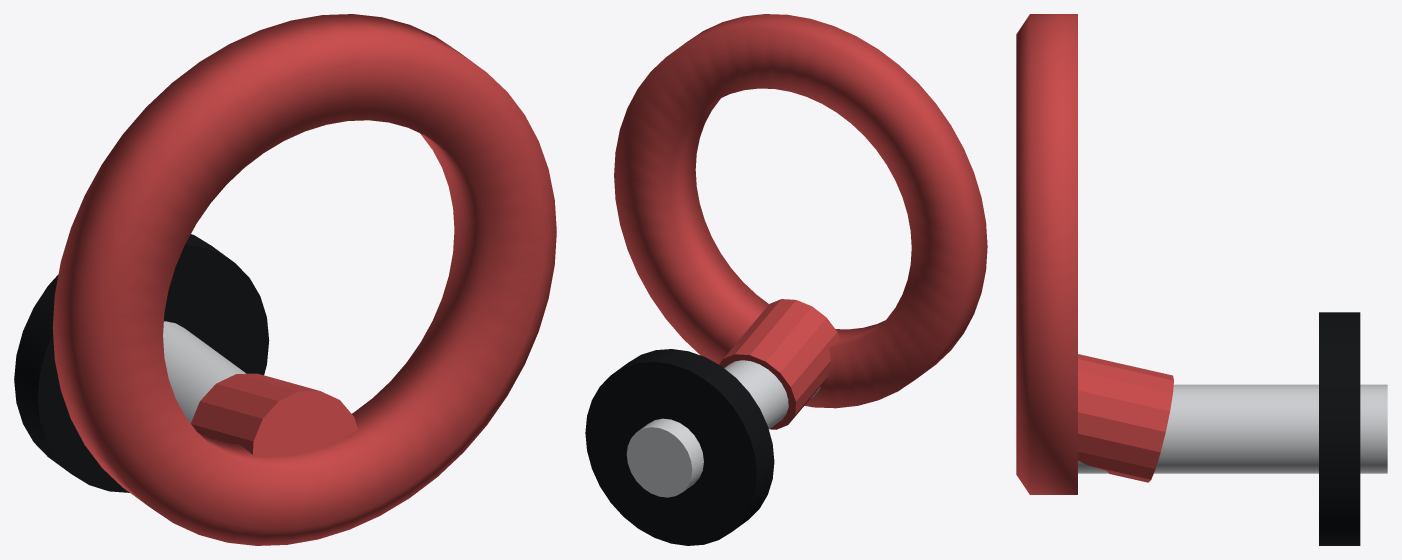
The model's file is FA42_tow_hook.glb.
3 renders of one model, left to right at view 1: azimuth 30°, elevation 25°; view 2: azimuth 150°, elevation 25°; view 3: azimuth 270°, elevation 25°, orthographic. The views are drawn at different scales.
Parts seen in each view (by area): view 1: MOD_NA_FA42_eye, MOD_NA_FA42_socket, MOD_NA_FA42_neck, MOD_NA_FA42_shaft; view 2: MOD_NA_FA42_eye, MOD_NA_FA42_socket, MOD_NA_FA42_neck, MOD_NA_FA42_shaft; view 3: MOD_NA_FA42_eye, MOD_NA_FA42_shaft, MOD_NA_FA42_socket, MOD_NA_FA42_neck.
Part boxes in pixels (x1,y1,x2,y2): MOD_NA_FA42_eye: (52, 14, 556, 545); MOD_NA_FA42_socket: (14, 234, 269, 492); MOD_NA_FA42_neck: (191, 373, 357, 456); MOD_NA_FA42_shaft: (163, 321, 245, 423); MOD_NA_FA42_eye: (614, 14, 987, 408); MOD_NA_FA42_socket: (585, 349, 774, 545); MOD_NA_FA42_neck: (719, 299, 839, 429); MOD_NA_FA42_shaft: (626, 360, 820, 497); MOD_NA_FA42_eye: (1016, 14, 1077, 494); MOD_NA_FA42_shaft: (1078, 384, 1387, 473); MOD_NA_FA42_socket: (1319, 312, 1360, 545); MOD_NA_FA42_neck: (1078, 354, 1173, 482).
Size of the model in its own units: 0.07 by 0.08 by 0.054.
